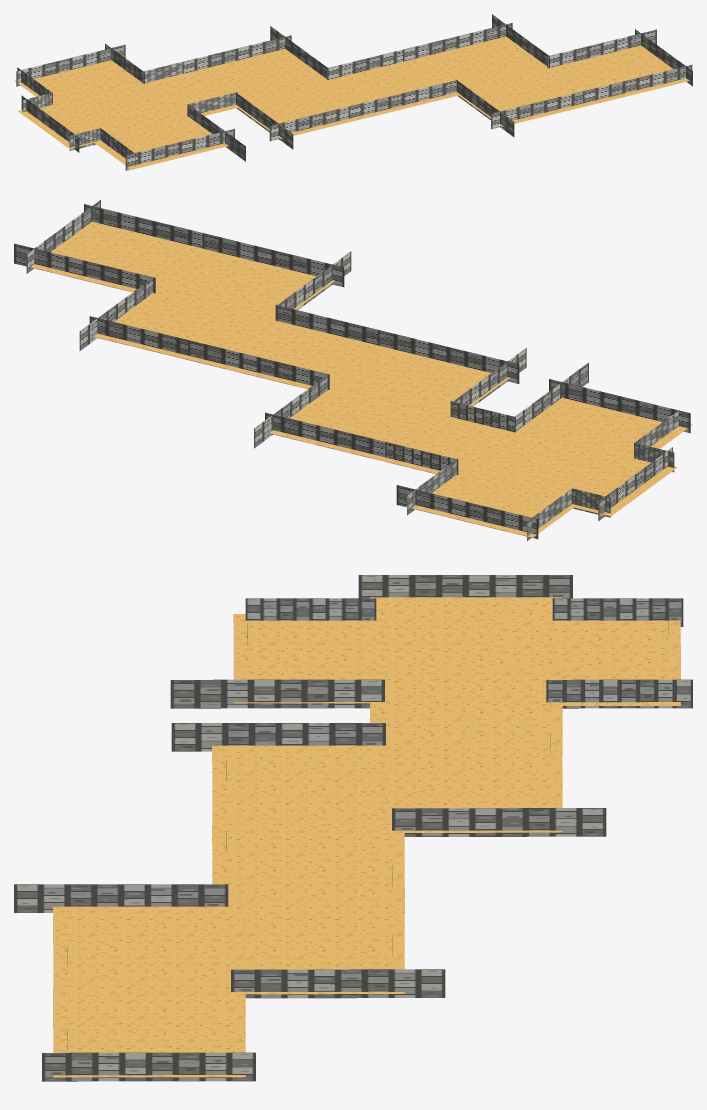
Rendered from stage1_ground.FBX.
3 renders of one model, top to bottom at view 1: azimuth 30°, elevation 25°; view 2: azimuth 150°, elevation 25°; view 3: azimuth 270°, elevation 25°, orthographic. The views are drawn at different scales.
Visible parts, largest first — view 1: Floor_Soil_007, Floor_Soil_006, Floor_Soil_004, Floor_Soil_002, Floor_Soil_009, Floor_Soil_003, Floor_Soil_01, Floor_Soil_005, Floor_Soil_008, Floor_Soil_010, Floor_StonePaving_019, Floor_StonePaving_026 (+22 smaller); view 2: Floor_Soil_007, Floor_Soil_002, Floor_Soil_004, Floor_Soil_01, Floor_Soil_006, Floor_Soil_005, Floor_Soil_010, Floor_Soil_003, Floor_Soil_009, Floor_Soil_008, Floor_StonePaving_038, Floor_StonePaving_018 (+22 smaller); view 3: Floor_Soil_004, Floor_Soil_002, Floor_Soil_007, Floor_Soil_005, Floor_Soil_01, Floor_Soil_009, Floor_Soil_006, Floor_Soil_008, Floor_Soil_003, Floor_Soil_010, Floor_StonePaving_045, Floor_StonePaving_002 (+8 smaller).
Boxes of the visible parts, <box> form: Floor_Soil_007: <box>102,69,239,128</box>; Floor_Soil_006: <box>203,49,326,104</box>; Floor_Soil_004: <box>318,57,460,116</box>; Floor_Soil_002: <box>459,65,599,126</box>; Floor_Soil_009: <box>14,60,139,118</box>; Floor_Soil_003: <box>420,36,545,85</box>; Floor_Soil_01: <box>552,45,689,102</box>; Floor_Soil_005: <box>238,86,369,138</box>; Floor_Soil_008: <box>18,105,152,148</box>; Floor_Soil_010: <box>95,119,228,169</box>; Floor_StonePaving_019: <box>348,80,457,118</box>; Floor_StonePaving_026: <box>182,35,291,73</box>; Floor_Soil_007: <box>375,410,568,489</box>; Floor_Soil_002: <box>149,250,334,322</box>; Floor_Soil_004: <box>205,315,393,394</box>; Floor_Soil_01: <box>30,221,207,291</box>; Floor_Soil_006: <box>269,386,448,458</box>; Floor_Soil_005: <box>345,349,509,411</box>; Floor_Soil_010: <box>520,397,692,456</box>; Floor_Soil_003: <box>94,287,259,363</box>; Floor_Soil_009: <box>406,471,599,537</box>; Floor_Soil_008: <box>529,441,677,516</box>; Floor_StonePaving_038: <box>396,485,538,538</box>; Floor_StonePaving_018: <box>188,340,329,389</box>; Floor_Soil_004: <box>212,825,404,914</box>; Floor_Soil_002: <box>53,906,245,994</box>; Floor_Soil_007: <box>370,667,562,756</box>; Floor_Soil_005: <box>212,745,370,824</box>; Floor_Soil_01: <box>53,988,245,1077</box>; Floor_Soil_009: <box>488,617,680,705</box>; Floor_Soil_006: <box>370,746,562,832</box>; Floor_Soil_008: <box>370,597,562,666</box>; Floor_Soil_003: <box>212,914,404,994</box>; Floor_Soil_010: <box>233,614,370,703</box>; Floor_StonePaving_045: <box>170,679,384,708</box>; Floor_StonePaving_002: <box>42,1052,255,1081</box>.
Size of the model in its own units: 20429 by 11767 by 548.
Materials: 2 (2 with a texture image).
